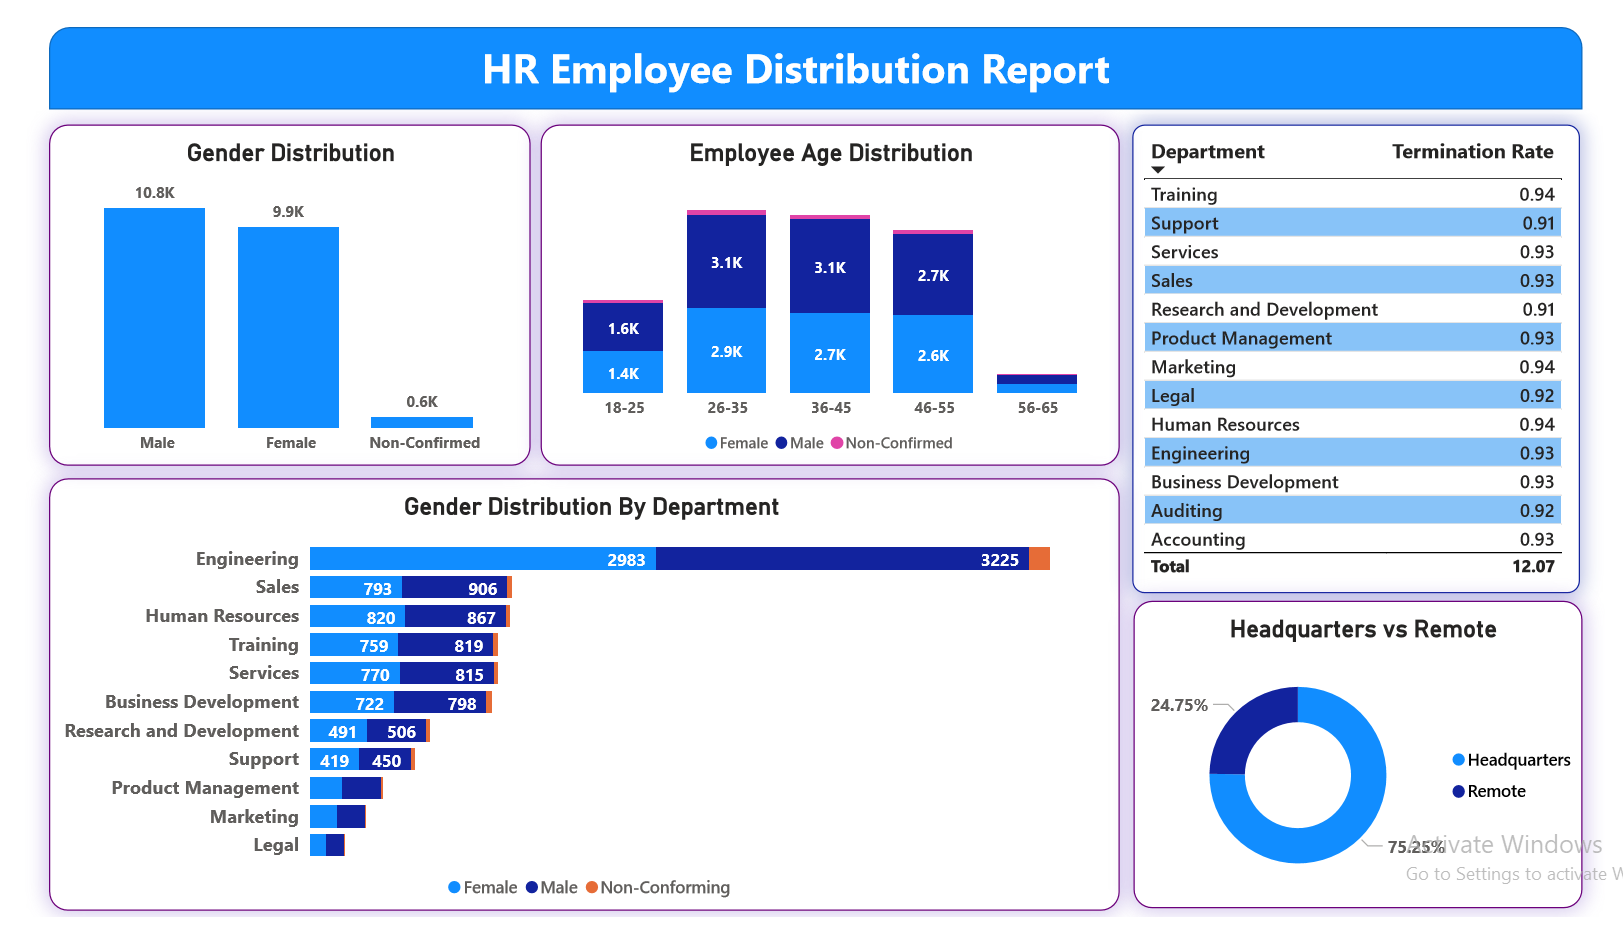

What the dashboard file says about the page in this screenshot:
{"tool":"powerbi","page":{"name":"Home","canvas":[1280,720],"ordinal":0},"visuals":[{"type":"columnChart","title":"Gender Distribution","fields":{"Category":["Gender Count.gender"],"Y":["Sum(Gender Count.count)"]},"box":[36.2,85.6,384.7,273.8],"z":0},{"type":"columnChart","title":"Employee Age Distribution","fields":{"Y":["Sum(Age Group Counts.count)"],"Category":["Age Group Counts.age_group"],"Series":["Age Group Counts.gender"]},"box":[429.3,85.6,463.1,273.8],"z":1000},{"type":"tableEx","fields":{"Values":["Termination rate department wise.department","Sum(Termination rate department wise.termination_rate)"]},"box":[902.1,85.6,358.2,375.1],"z":2000},{"type":"barChart","title":"Gender Distribution By Department","fields":{"Category":["Deparment wise gender count.department"],"Y":["Sum(Deparment wise gender count.count)"],"Series":["Deparment wise gender count.gender"]},"box":[36.2,369,856.3,346.1],"z":3000},{"type":"donutChart","title":"Headquarters vs Remote","fields":{"Y":["CountNonNull(HR Analytics.first_name)"],"Category":["HR Analytics.location"]},"box":[903.3,466.7,358.2,246],"z":4000},{"type":"shape","box":[36.2,8.4,1225.3,65.1],"z":5000},{"type":"textbox","box":[377.5,13.3,524.6,56.7],"z":6000}]}

Visuals, with their boxes in screenshot pixels (x1, y1, x2, y2):
"Gender Distribution" columnChart: <box>45,120,526,462</box>
"Employee Age Distribution" columnChart: <box>537,120,1116,462</box>
tableEx - Termination rate department wise.department x Sum(Termination rate department wise.termination_rate): <box>1128,120,1576,589</box>
"Gender Distribution By Department" barChart: <box>45,474,1116,907</box>
"Headquarters vs Remote" donutChart: <box>1130,596,1577,904</box>
shape: <box>45,23,1577,105</box>
textbox: <box>472,29,1128,100</box>
